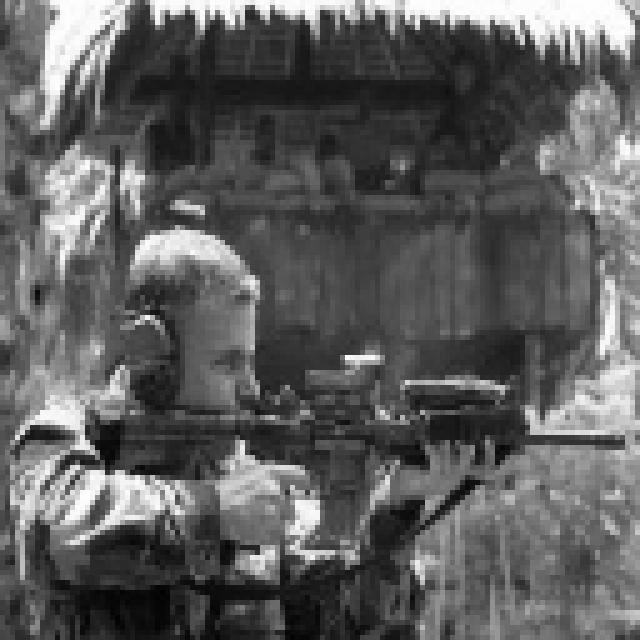Rifle: (80, 320, 640, 570)
